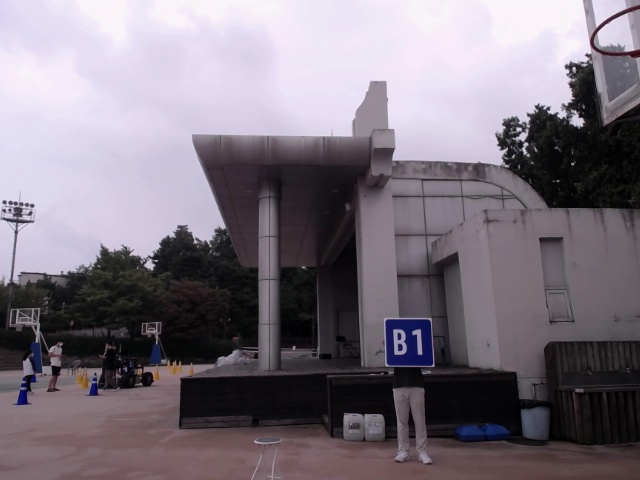delivery_b1: (384, 318, 434, 367)
